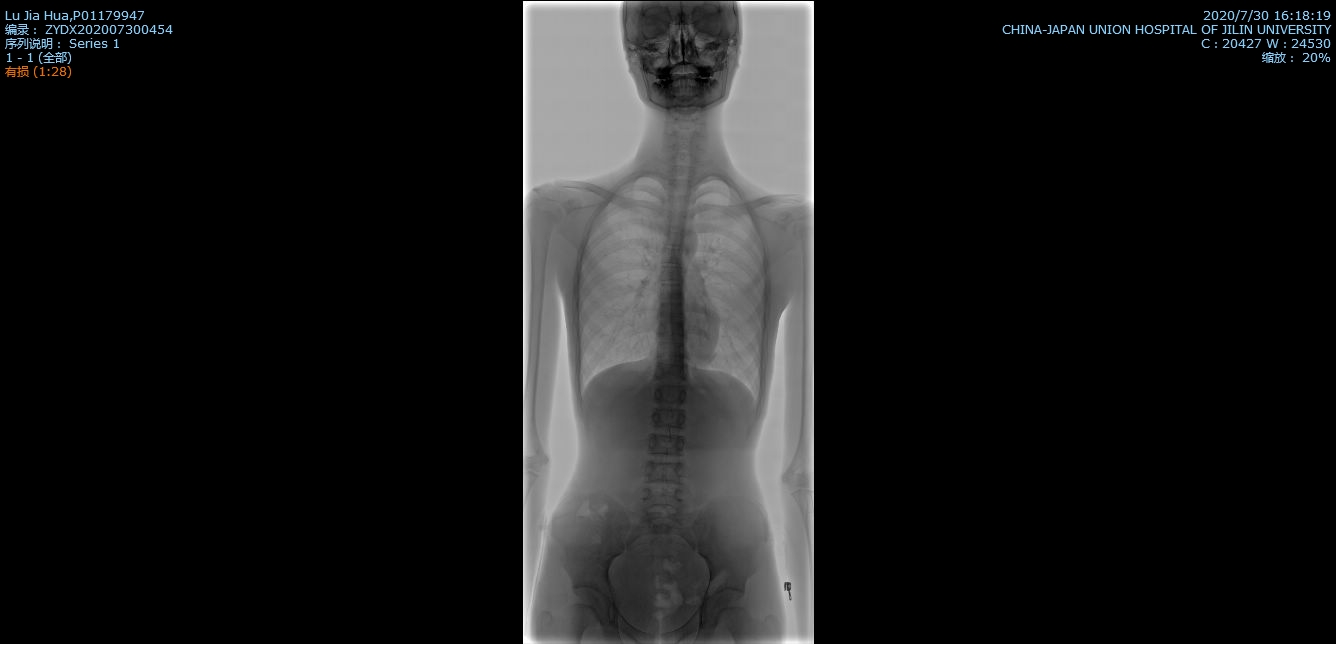Bone: (647, 434, 683, 456), (646, 463, 684, 480), (650, 408, 687, 425), (643, 490, 681, 506), (654, 385, 686, 402), (657, 363, 684, 379), (657, 342, 684, 358), (655, 322, 683, 337), (659, 302, 682, 317), (659, 284, 682, 298), (660, 248, 681, 263), (660, 267, 681, 280), (663, 231, 682, 243)
